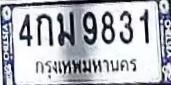1: (138, 9, 148, 44)
3: (118, 10, 133, 43)
4: (18, 13, 32, 46)
8: (101, 10, 114, 43)
9: (82, 11, 97, 45)
A01: (36, 13, 54, 46)
A33: (56, 11, 75, 47)
BKK: (32, 53, 137, 80)
